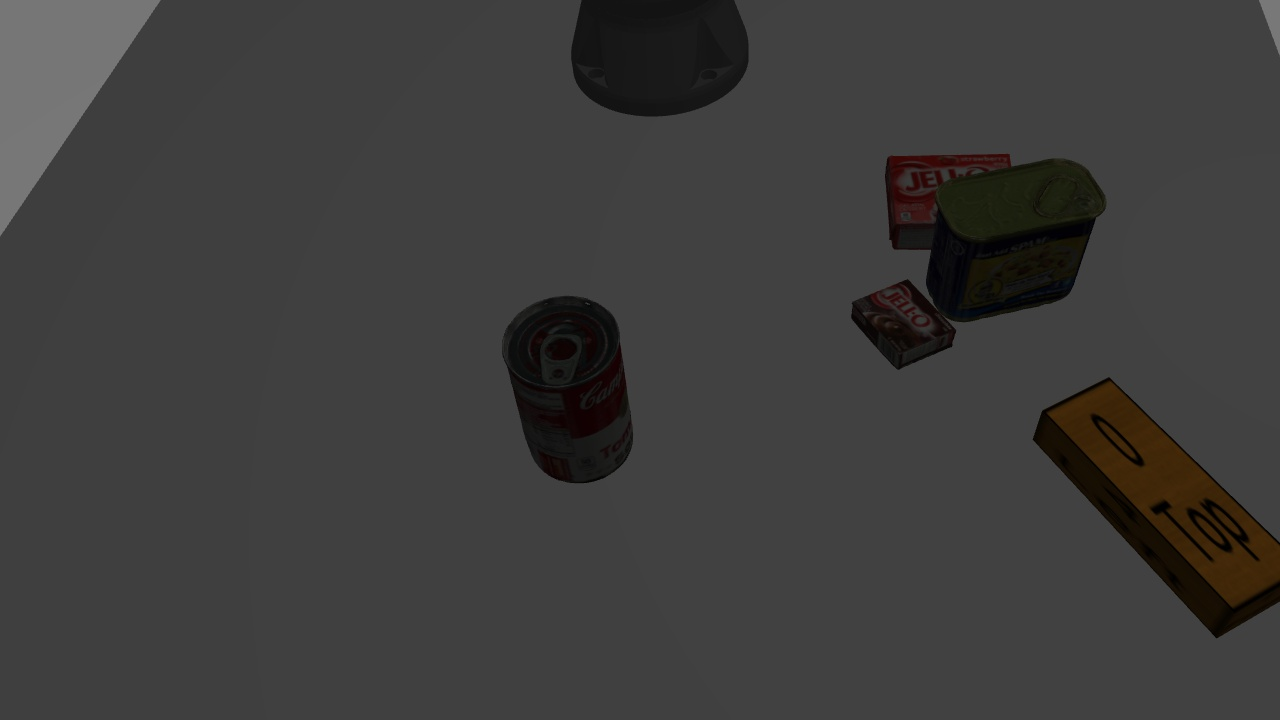gelatin_box: (881, 148, 1017, 233)
jenga: (1030, 372, 1277, 646)
potted_meat_can: (916, 158, 1107, 317)
pudding_box: (847, 274, 960, 372)
tomato_soup_can: (500, 287, 652, 486)
